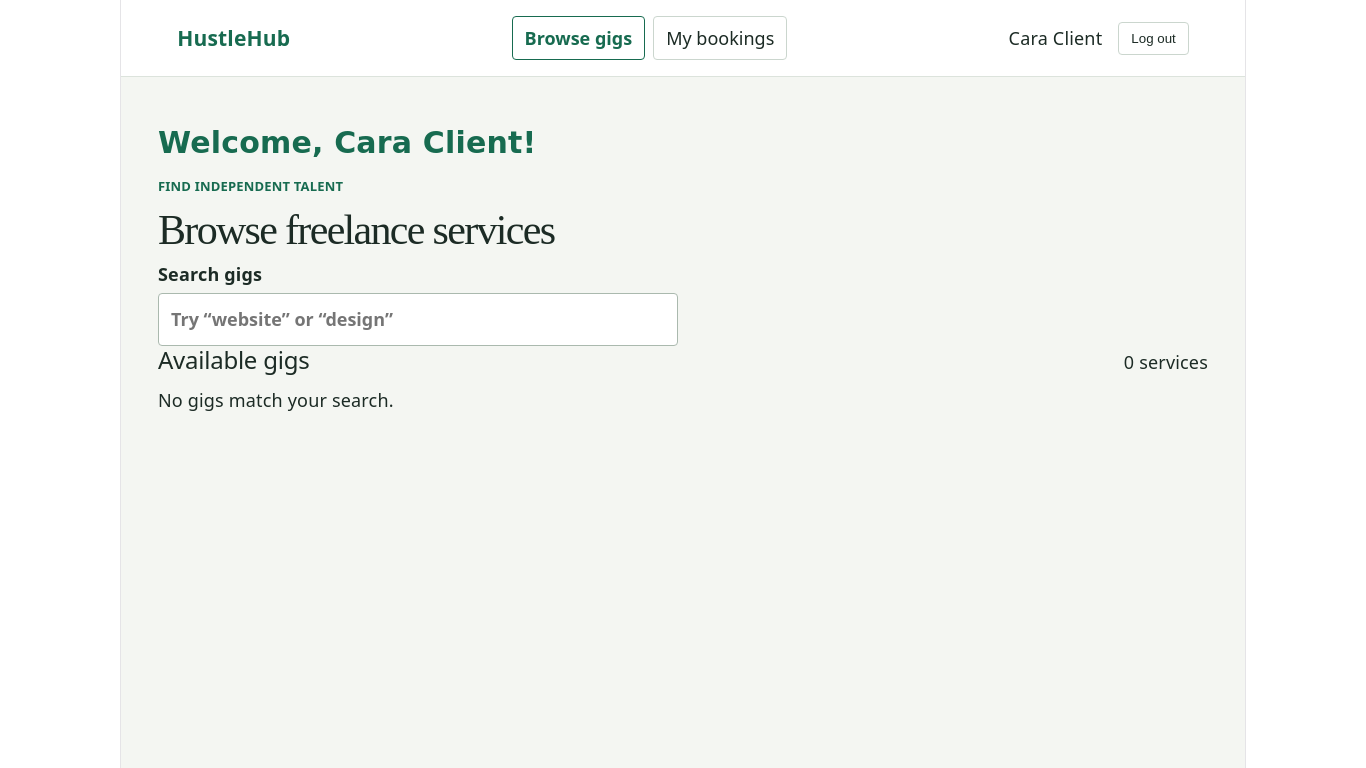
Test: App authentication screens › log out clears the session
Step 1. Click the button "Log out" → [1154, 38], box x1=1118 y1=22 x2=1189 y2=54
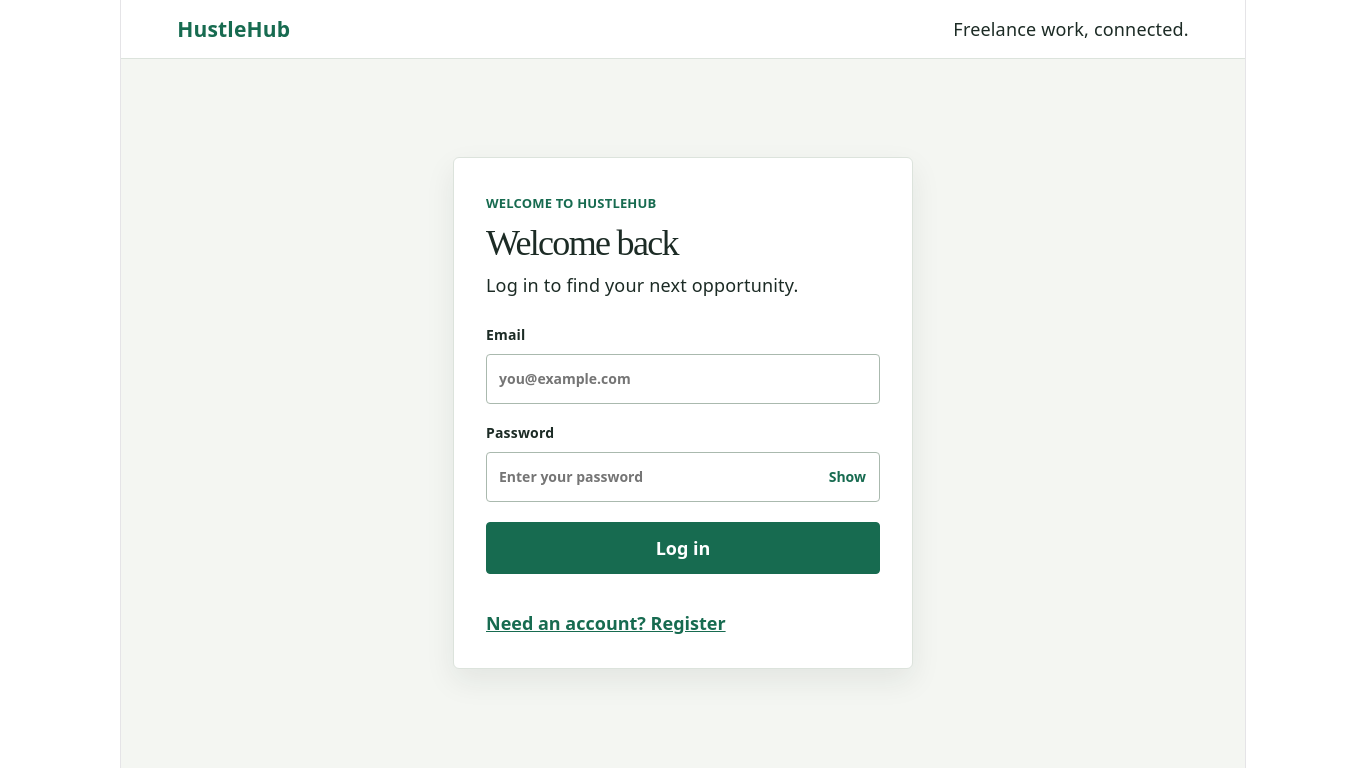
Now the heading "Welcome back" is shown, box x1=486 y1=223 x2=678 y2=263
